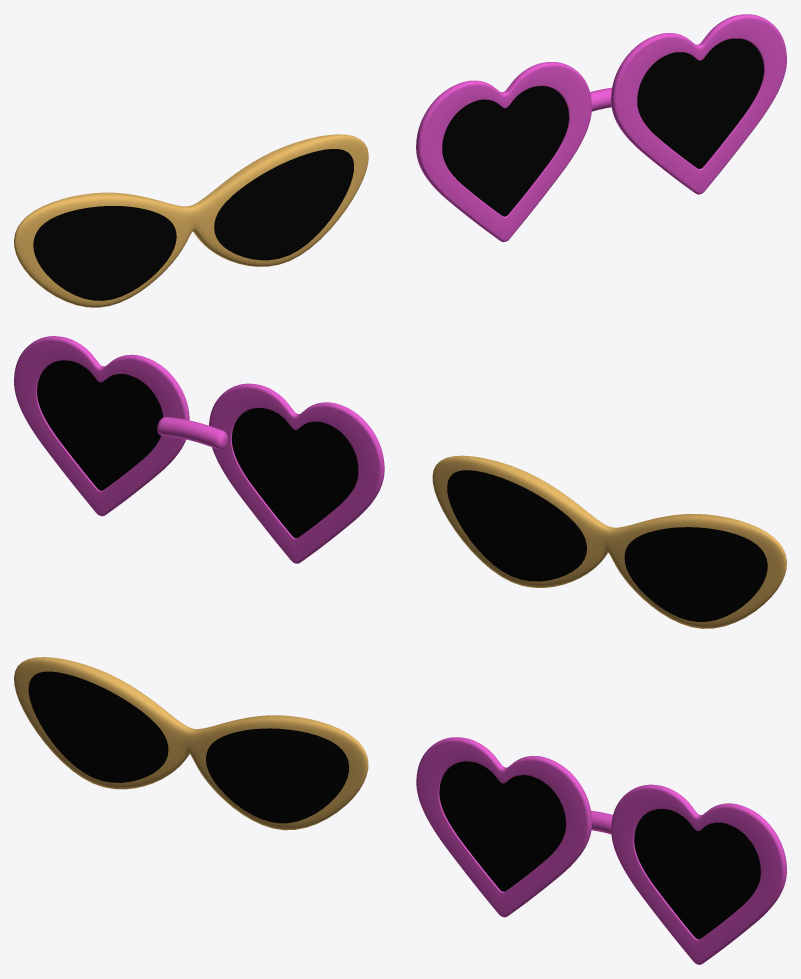
Rendered from heartShades.fbx.
The picture shows the model from 3 angles, top to bottom: view 1: azimuth 30°, elevation 25°; view 2: azimuth 150°, elevation 25°; view 3: azimuth 330°, elevation 25°; orthographic projection.
Visible parts, largest first — view 1: _gltfNode_1.001, _gltfNode_8, _gltfNode_5.001, _gltfNode_0.001, _gltfNode_7, _gltfNode_4.001; view 2: _gltfNode_1.001, _gltfNode_5.001, _gltfNode_0.001, _gltfNode_8, _gltfNode_4.001, _gltfNode_7, _gltfNode_3; view 3: _gltfNode_1.001, _gltfNode_5.001, _gltfNode_8, _gltfNode_0.001, _gltfNode_4.001, _gltfNode_7.
Boxes of the visible parts, x1,y1,x2,y2 form: _gltfNode_1.001: [33, 149, 353, 300]; _gltfNode_8: [637, 38, 763, 168]; _gltfNode_5.001: [442, 86, 568, 216]; _gltfNode_0.001: [14, 134, 368, 307]; _gltfNode_7: [611, 14, 786, 194]; _gltfNode_4.001: [416, 62, 591, 242]; _gltfNode_1.001: [447, 470, 767, 621]; _gltfNode_5.001: [232, 408, 358, 538]; _gltfNode_0.001: [432, 455, 786, 628]; _gltfNode_8: [37, 360, 163, 490]; _gltfNode_4.001: [209, 383, 384, 563]; _gltfNode_7: [14, 336, 189, 516]; _gltfNode_3: [157, 417, 227, 449]; _gltfNode_1.001: [28, 671, 348, 823]; _gltfNode_5.001: [439, 761, 565, 891]; _gltfNode_8: [634, 809, 760, 939]; _gltfNode_0.001: [14, 657, 368, 830]; _gltfNode_4.001: [416, 737, 591, 917]; _gltfNode_7: [611, 784, 786, 964].
Bounding box in the file's own units: 709 × 148 × 26.
